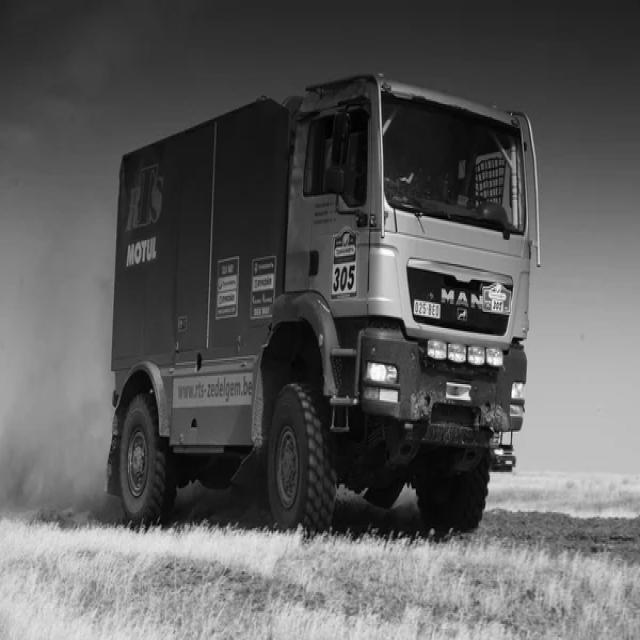Truck: (107, 75, 540, 533)
